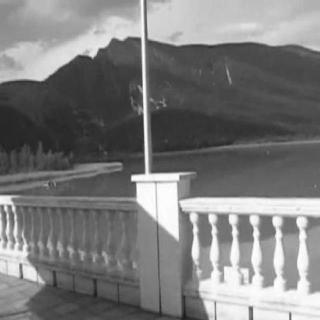other: (3, 200, 23, 278)
